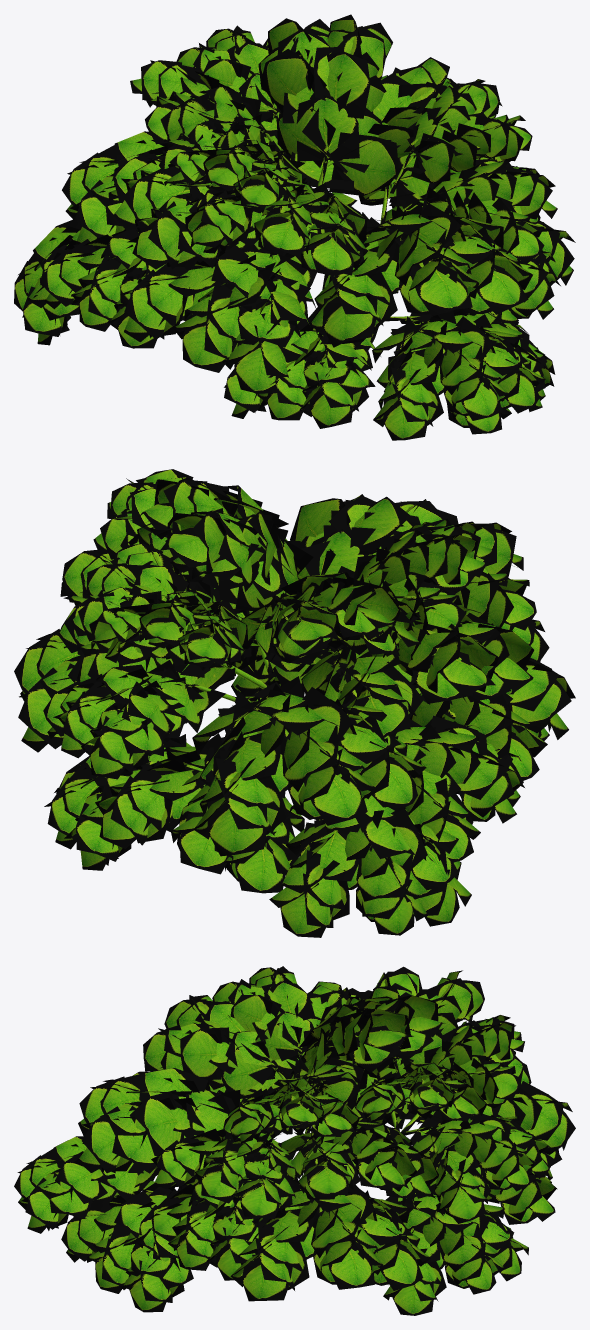
File: leaf.obj
3 renders of one model, top to bottom at view 1: azimuth 30°, elevation 25°; view 2: azimuth 150°, elevation 25°; view 3: azimuth 270°, elevation 25°, orthographic. The views are drawn at different scales.
Visible parts, largest first — view 1: Tree.002_Plane.105_Tree.002_Plane.105_Material.002; view 2: Tree.002_Plane.105_Tree.002_Plane.105_Material.002; view 3: Tree.002_Plane.105_Tree.002_Plane.105_Material.002.
Part boxes in pixels (<box>): Tree.002_Plane.105_Tree.002_Plane.105_Material.002: <box>14,14,575,440</box>; Tree.002_Plane.105_Tree.002_Plane.105_Material.002: <box>14,469,575,937</box>; Tree.002_Plane.105_Tree.002_Plane.105_Material.002: <box>14,966,575,1315</box>.
Bounding box in the file's own units: 6.43 × 4.12 × 7.59.
